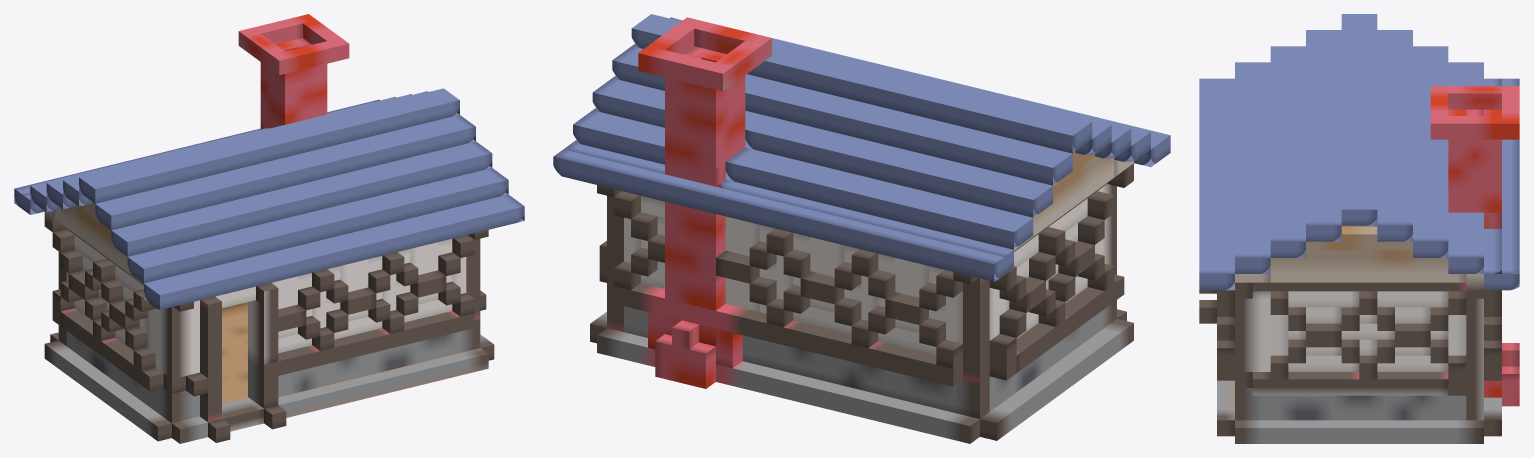
The model's file is House 1.obj.
3 views of the same model, side by side, from view 1: azimuth 30°, elevation 25°; view 2: azimuth 150°, elevation 25°; view 3: azimuth 270°, elevation 25° (orthographic). The views are drawn at different scales.
Visible parts, largest first — view 1: Model; view 2: Model; view 3: Model.
Boxes of the visible parts, x1,y1,x2,y2 form: Model: [14, 14, 524, 443]; Model: [553, 14, 1170, 443]; Model: [1199, 14, 1519, 443].
Size of the model in its own units: 26 by 18 by 18.
1 material, 1 textured.
